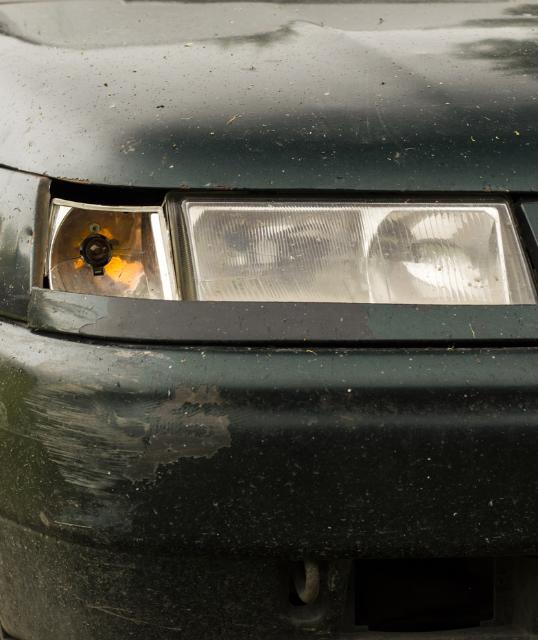Bumper: (22, 337, 274, 557)
Light: (29, 185, 234, 314)
